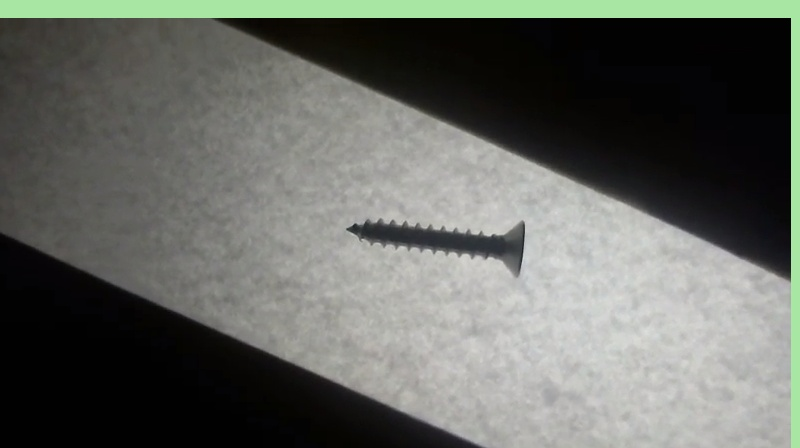S001: (340, 215, 529, 278)
